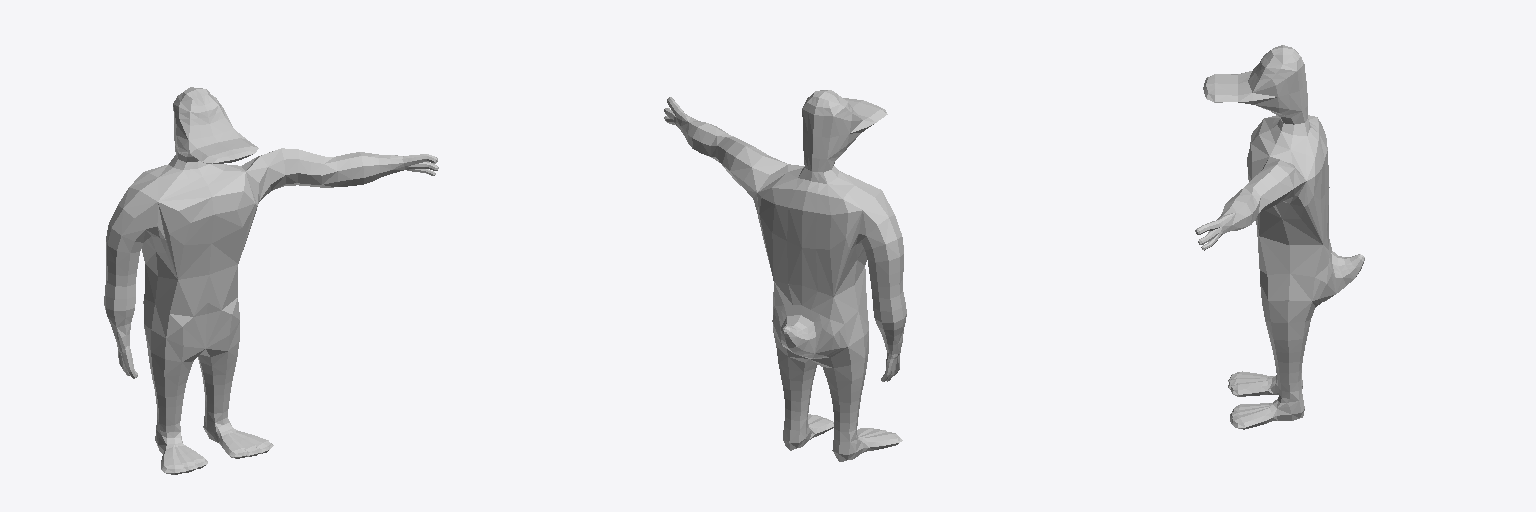
File: canard_qui_salue_000020.obj
3 views of the same model, side by side, from view 1: azimuth 30°, elevation 25°; view 2: azimuth 150°, elevation 25°; view 3: azimuth 270°, elevation 25° (orthographic).
Visible parts, largest first — view 1: Cube; view 2: Cube; view 3: Cube.
Part boxes in pixels (x1,y1,x2,y2): Cube: (104, 87, 438, 474); Cube: (664, 90, 906, 461); Cube: (1195, 45, 1364, 429).
Bounding box in the file's own units: 2.33 × 2.8 × 1.19.